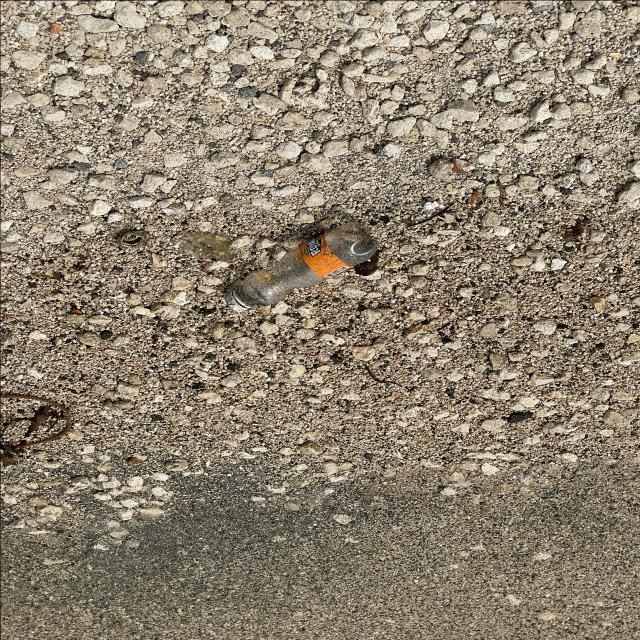plastic_waste: (225, 222, 380, 313)
